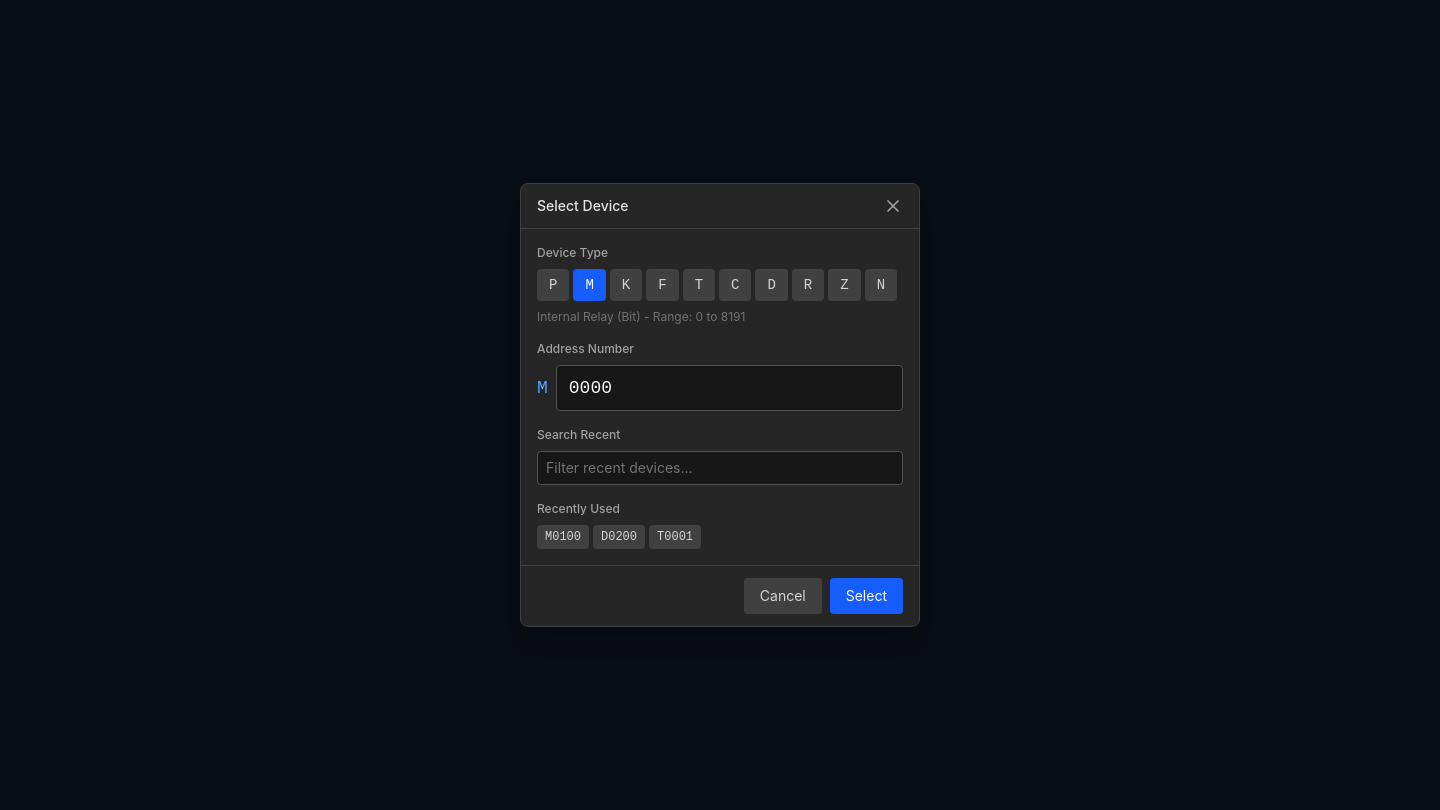
DeviceSelectDialog › Recently Used › should filter recent devices by search query
The width and height of the screenshot is (1440, 810).
Type "M" into the field with placeholder "Filter recent devices..." at (720, 468), box [537,451,903,485]
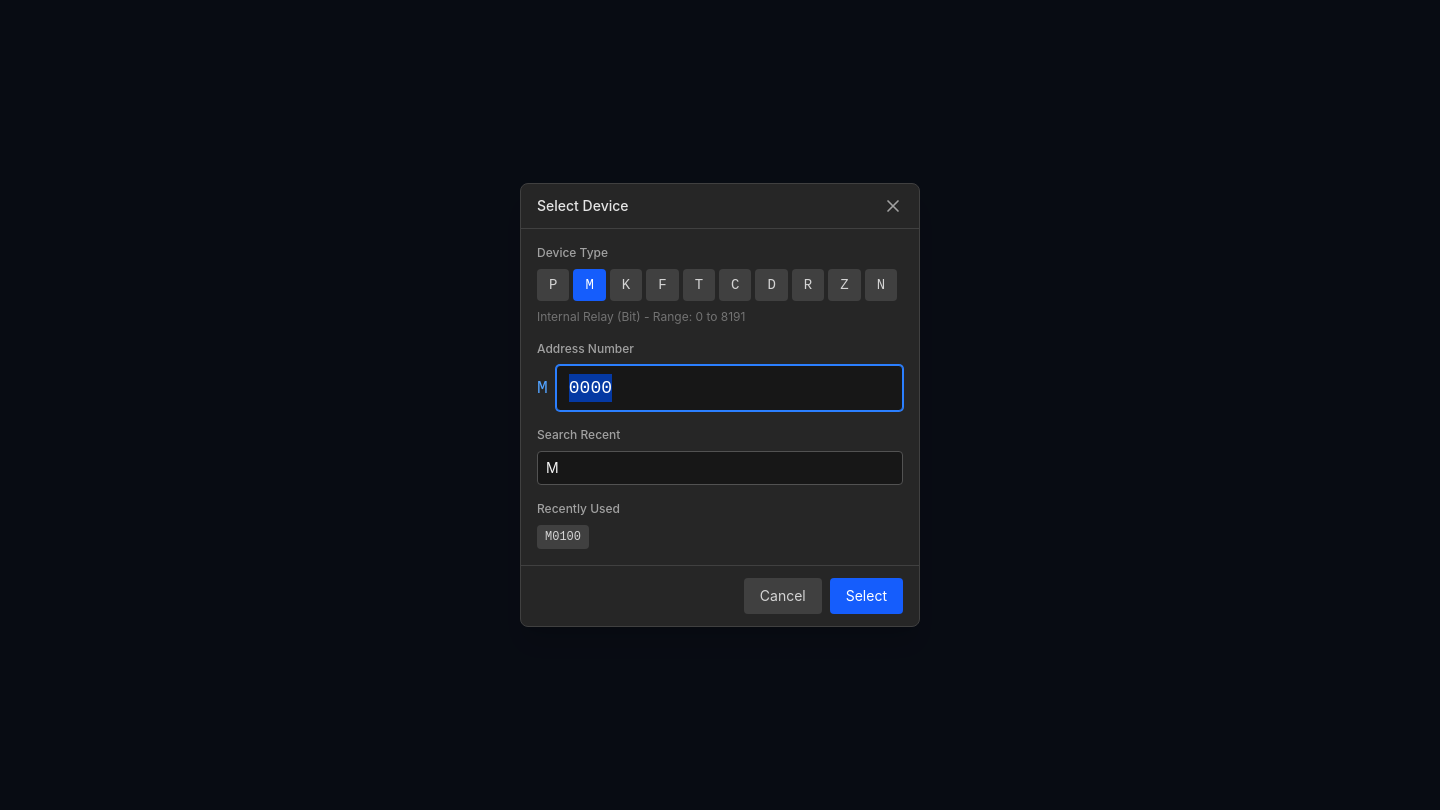
Check: the button "M0100" is shown, box [537,525,589,549]
Check: the button "D0200" is gone
Check: the button "T0001" is gone
